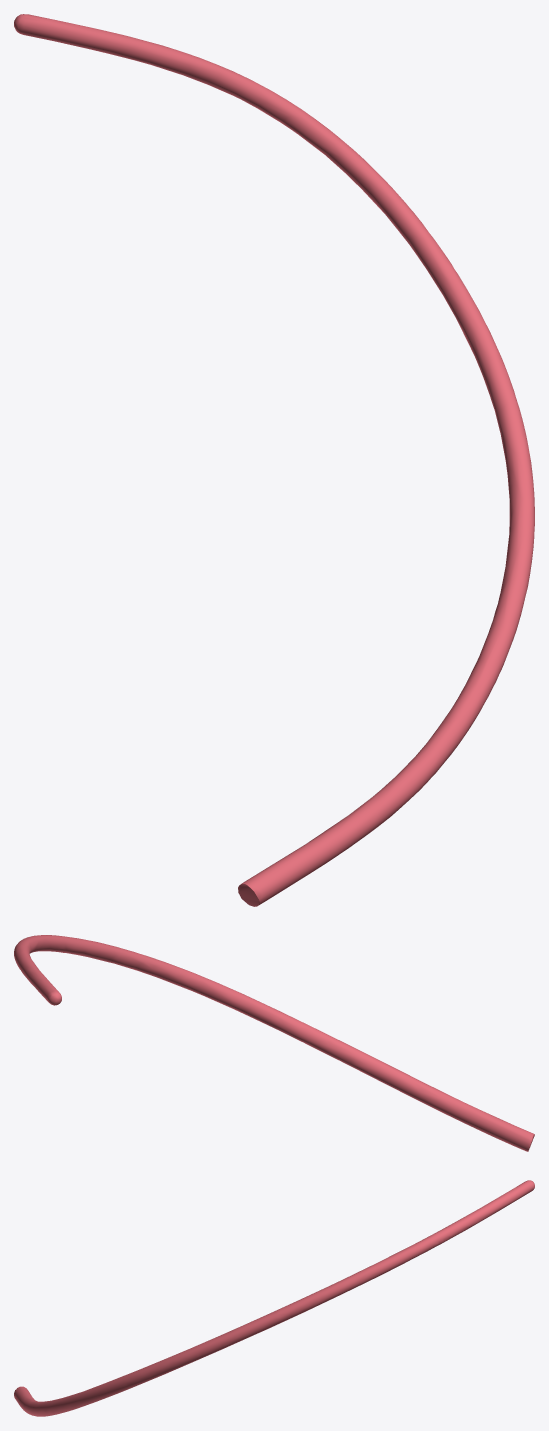
The model's file is fma14796_fj3501.glb.
3 views of the same model, one above another, from view 1: azimuth 30°, elevation 25°; view 2: azimuth 150°, elevation 25°; view 3: azimuth 270°, elevation 25° (orthographic). The views are drawn at different scales.
Parts seen in each view (by area): view 1: FMA14796_FJ3501; view 2: FMA14796_FJ3501; view 3: FMA14796_FJ3501.
Part boxes in pixels (box(x1,y1,x2,y2)): FMA14796_FJ3501: box(14, 14, 534, 906); FMA14796_FJ3501: box(14, 935, 534, 1151); FMA14796_FJ3501: box(14, 1180, 534, 1416).
Bounding box in the file's own units: 0.0354 × 0.0386 × 0.0645.
